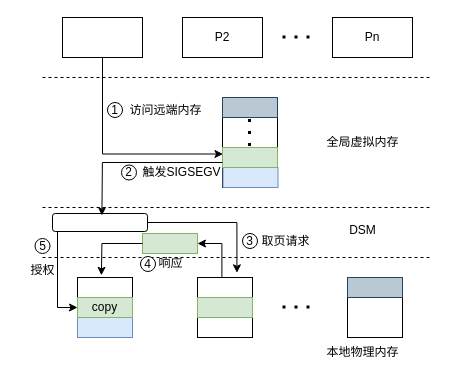
This 451x385 diagram has some shape labels left out. Each missing label, with the centre of its shape:
P1: point 102,37
sigsegv_handler: point 100,222
